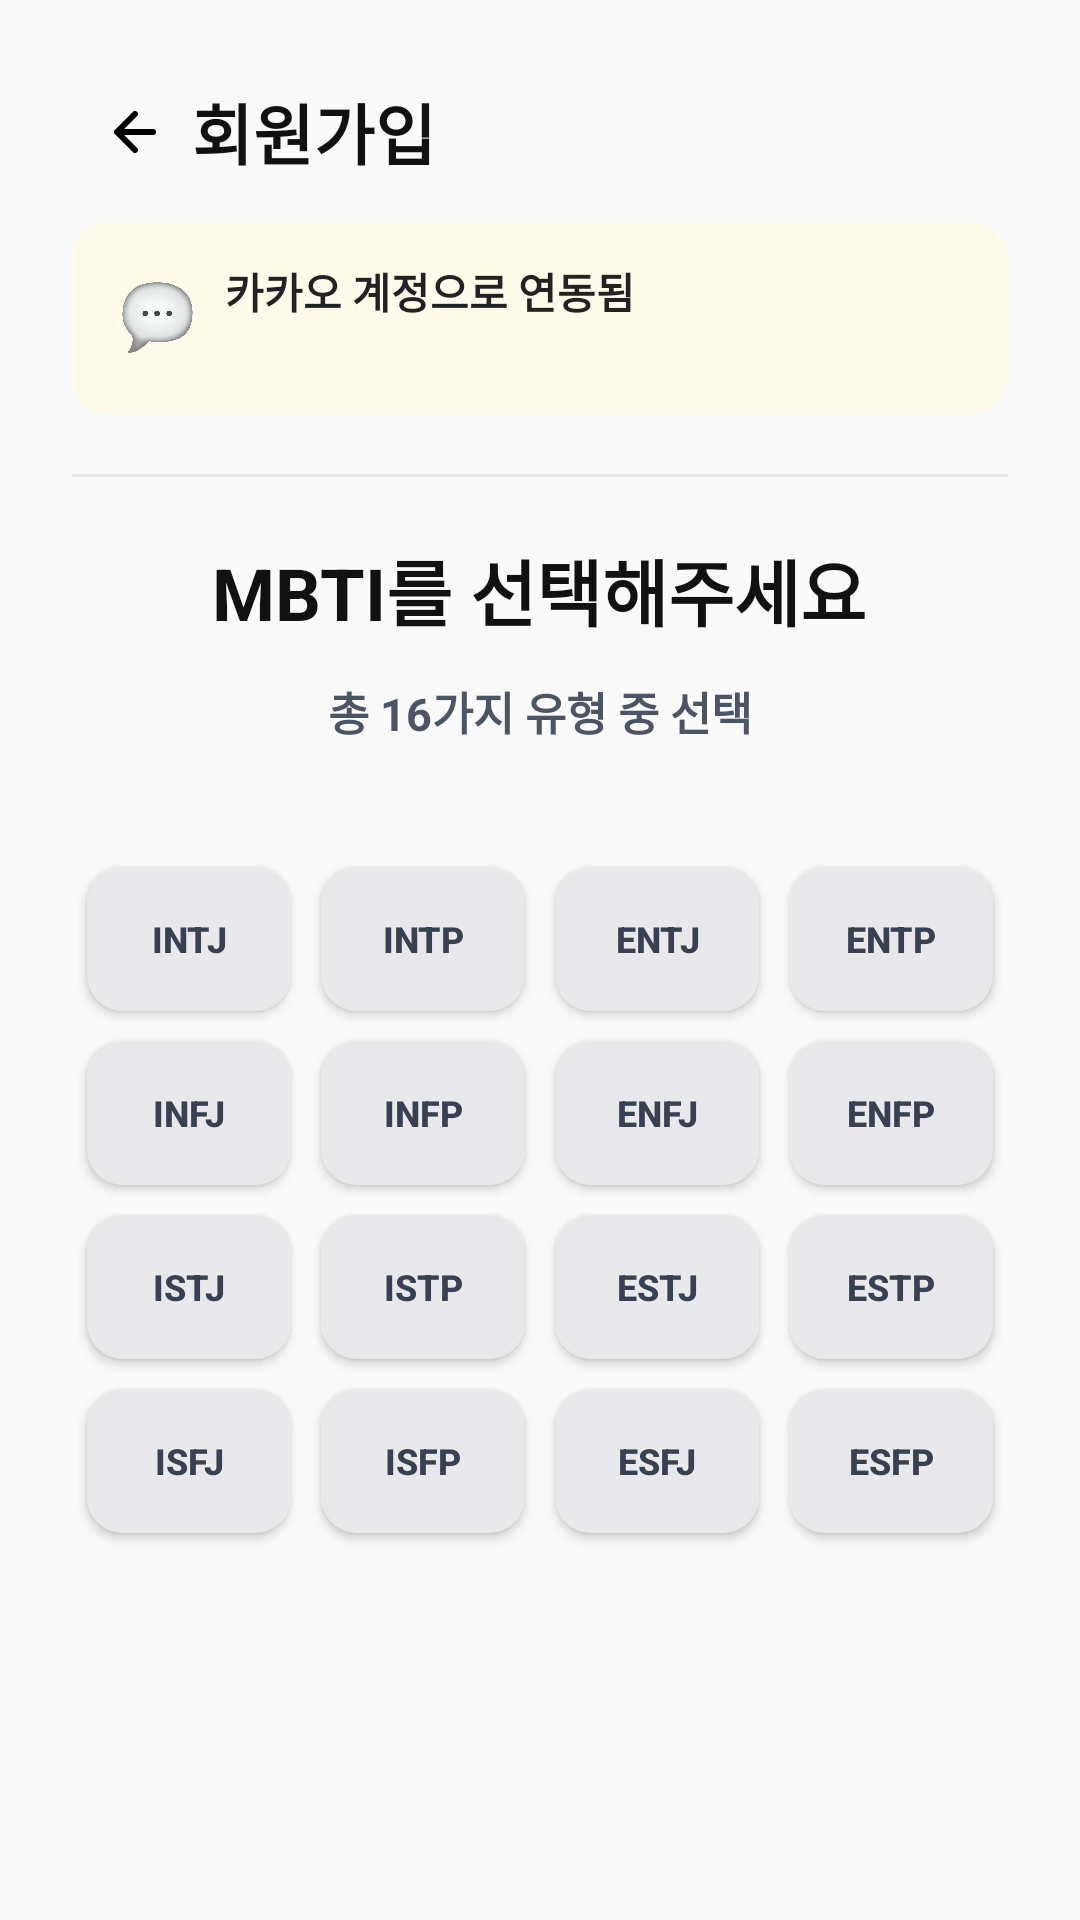

Named icons in this screenshot (1080×1920) and their bounding boxes, (x1, y1, x2, y2):
back: (114, 111, 156, 153)
emoji chat: (122, 282, 193, 353)
